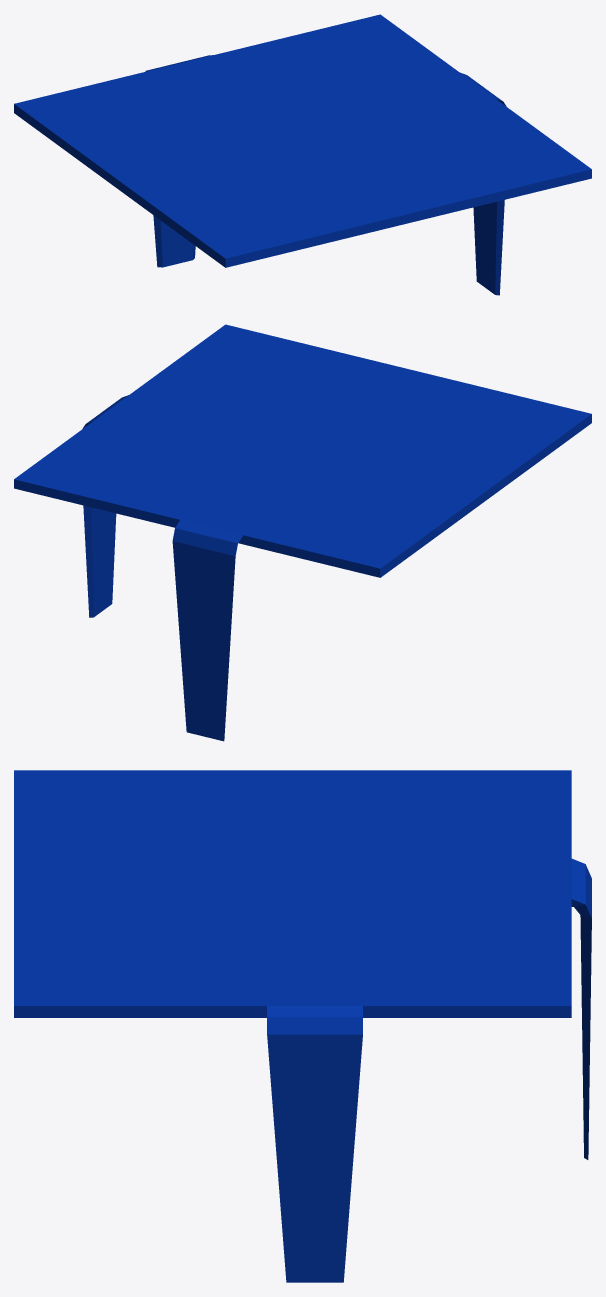
The model's file is Gazebo Land Chunk Water.FBX.
3 views of the same model, one above another, from view 1: azimuth 30°, elevation 25°; view 2: azimuth 150°, elevation 25°; view 3: azimuth 270°, elevation 25° (orthographic). The views are drawn at different scales.
Visible parts, largest first — view 1: Land Chunk Special; view 2: Land Chunk Special; view 3: Land Chunk Special.
Part boxes in pixels (box(x1,y1,x2,y2)): Land Chunk Special: box(14, 14, 591, 295); Land Chunk Special: box(14, 324, 591, 741); Land Chunk Special: box(14, 770, 591, 1282).
Size of the model in its own units: 25.91 by 13.33 by 25.91.
